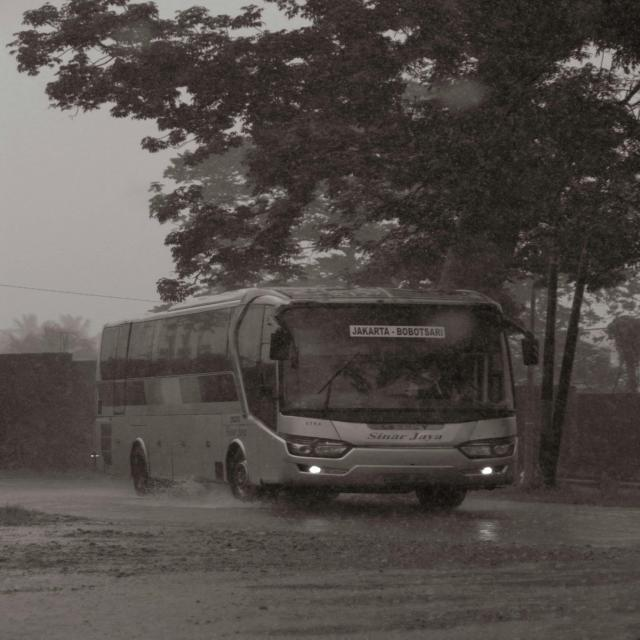bus: (89, 286, 539, 508)
